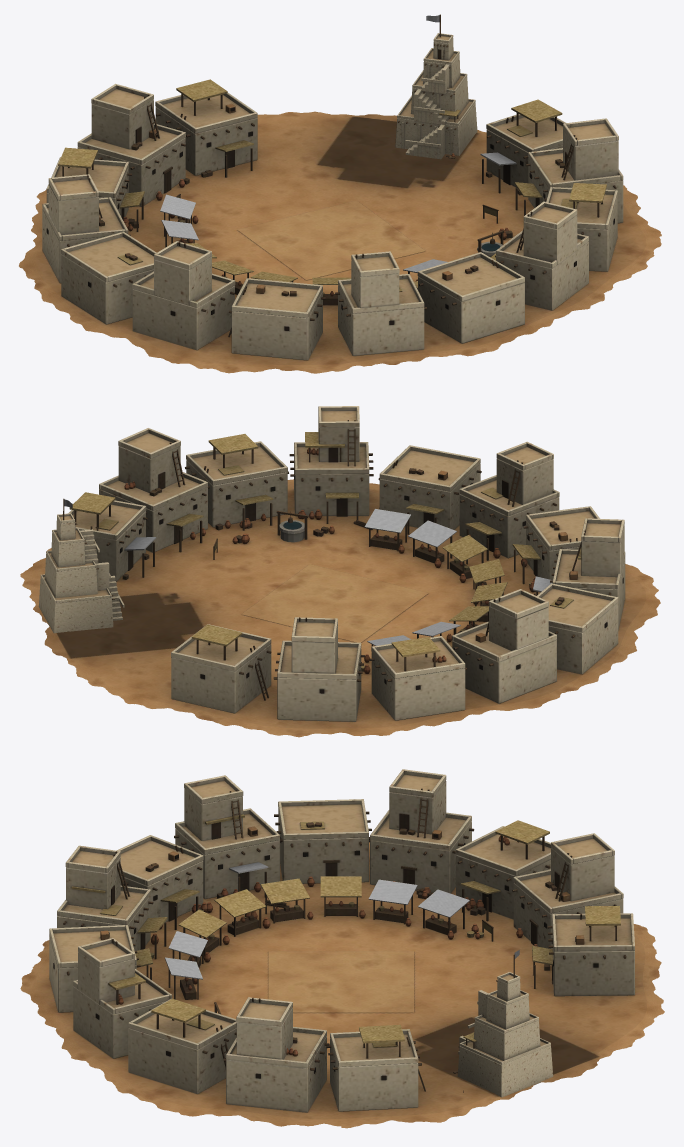
File: bronze-town-medium-a-b434ddfb.glb
The picture shows the model from 3 angles, top to bottom: view 1: azimuth 30°, elevation 25°; view 2: azimuth 150°, elevation 25°; view 3: azimuth 270°, elevation 25°; orthographic projection. The views are drawn at different scales.
Parts seen in each view (by area): view 1: LOD0; view 2: LOD0; view 3: LOD0.
Boxes of the visible parts, box(x1,y1,x2,y2) form: LOD0: box(19, 14, 661, 373); LOD0: box(20, 406, 660, 737); LOD0: box(20, 769, 664, 1128).
Size of what is drawn, in the model's own units: 5.92 by 1.22 by 5.6.
3 materials, 3 textured.
